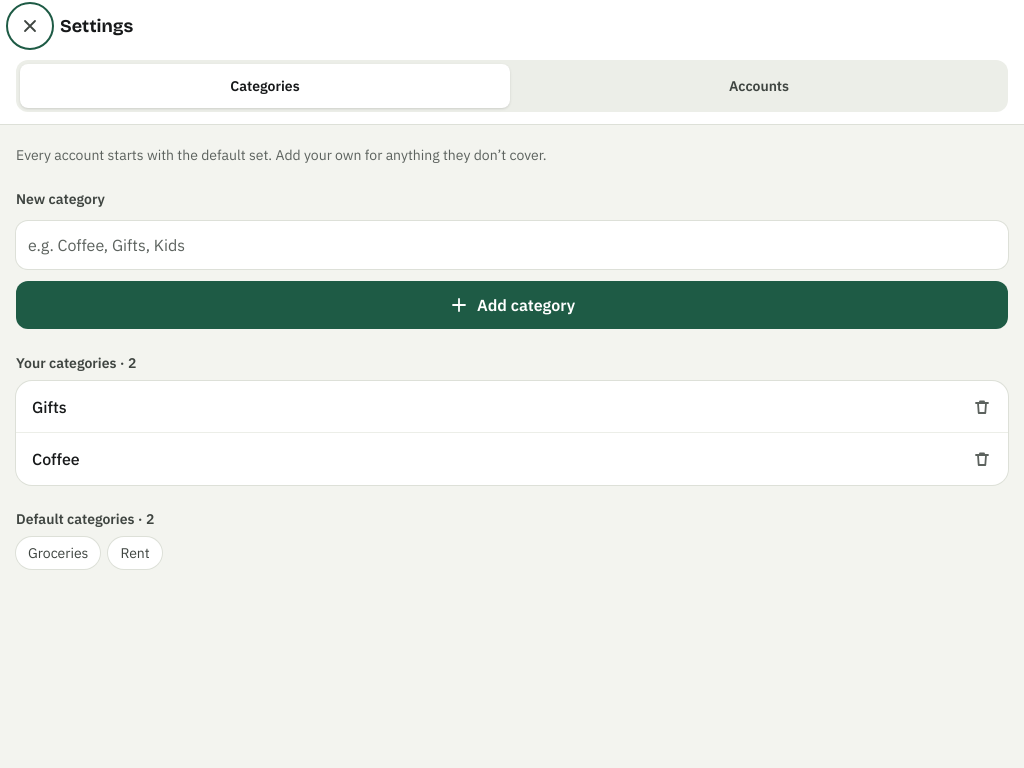
Scenario: PhoneSettings — accounts › shows the server’s refusal
Step 1. Click the button "Accounts" → [759, 86], box [514,64,1004,108]
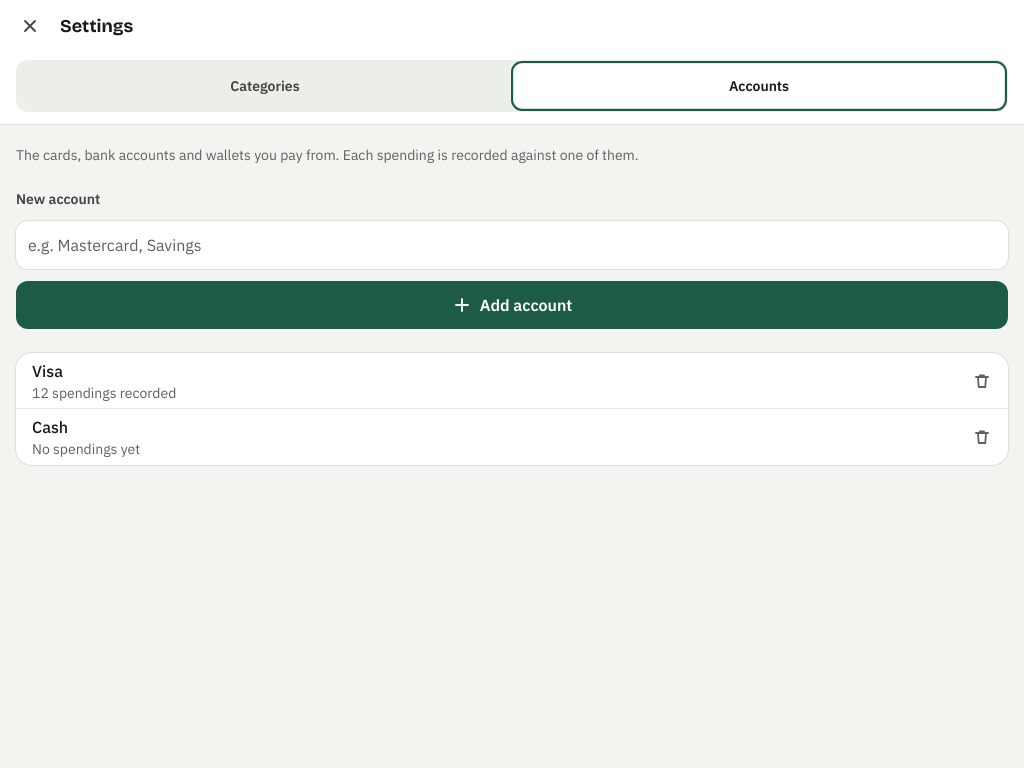
Step 2. Click the button named "Remove Cash" → [982, 437], box [960,415,1004,459]
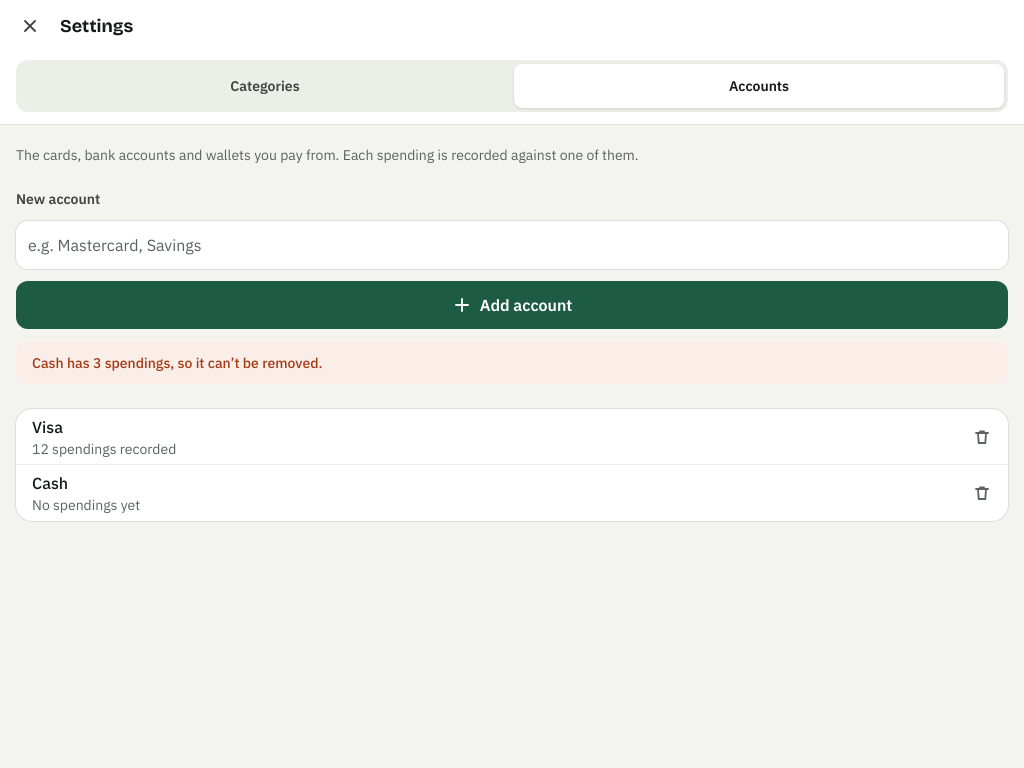
Expected: the message shows "Cash has 3 spendings", [32,354,322,372]
Step 3. Click the button named "Remove Visa" → [982, 436], box [960,414,1004,458]
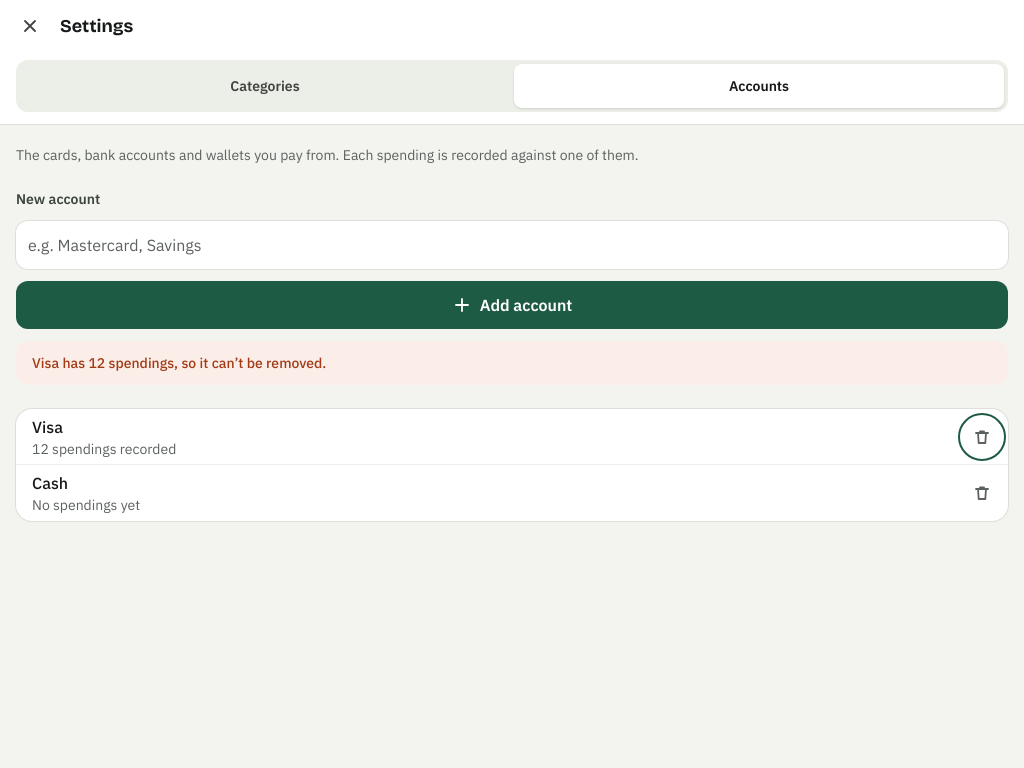
Expected: the message reads "Visa has 12 spendings, so it can’t be removed.", [32,354,326,372]
